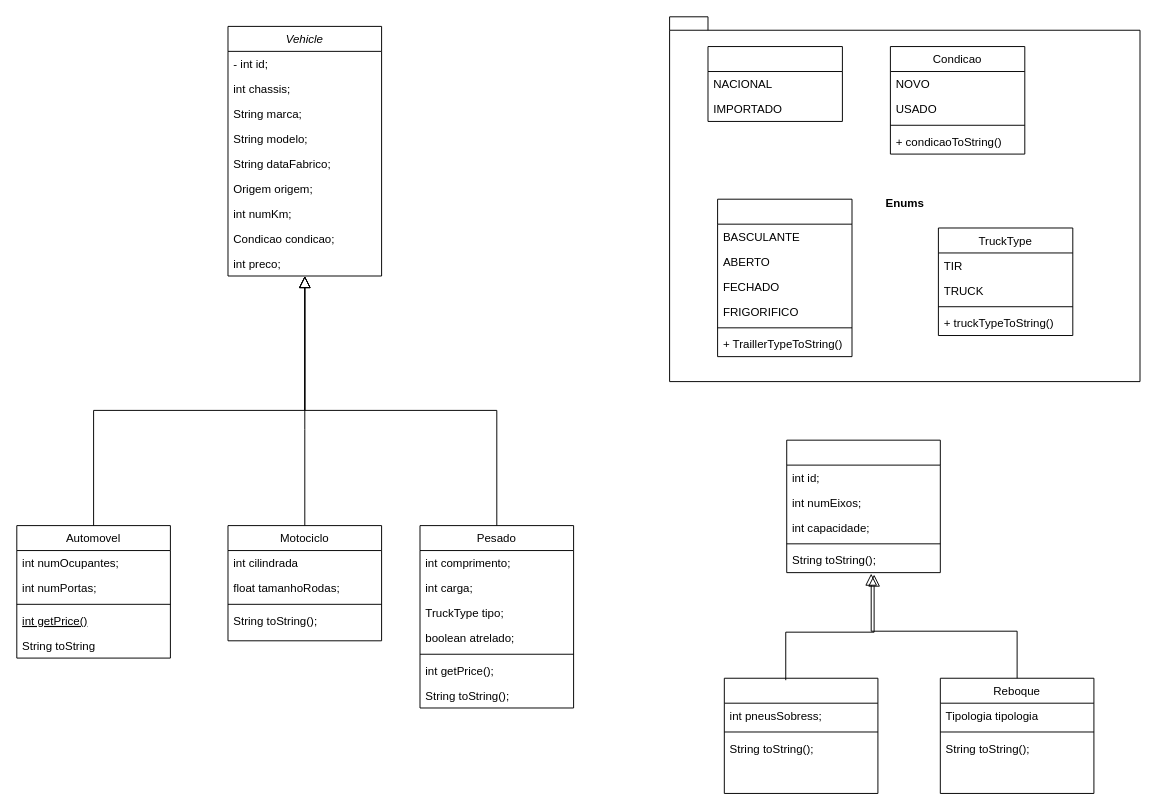
Some shapes in this 1157 by 810 pixel diagram are drawn without their labels. Here are the shapes that lost their labels. From the top down, the box of each, then its label:
(707, 46, 842, 121): Origem
(717, 198, 852, 357): Tipologia
(786, 439, 940, 573): Trailler
(723, 677, 878, 793): Semi Reboque
